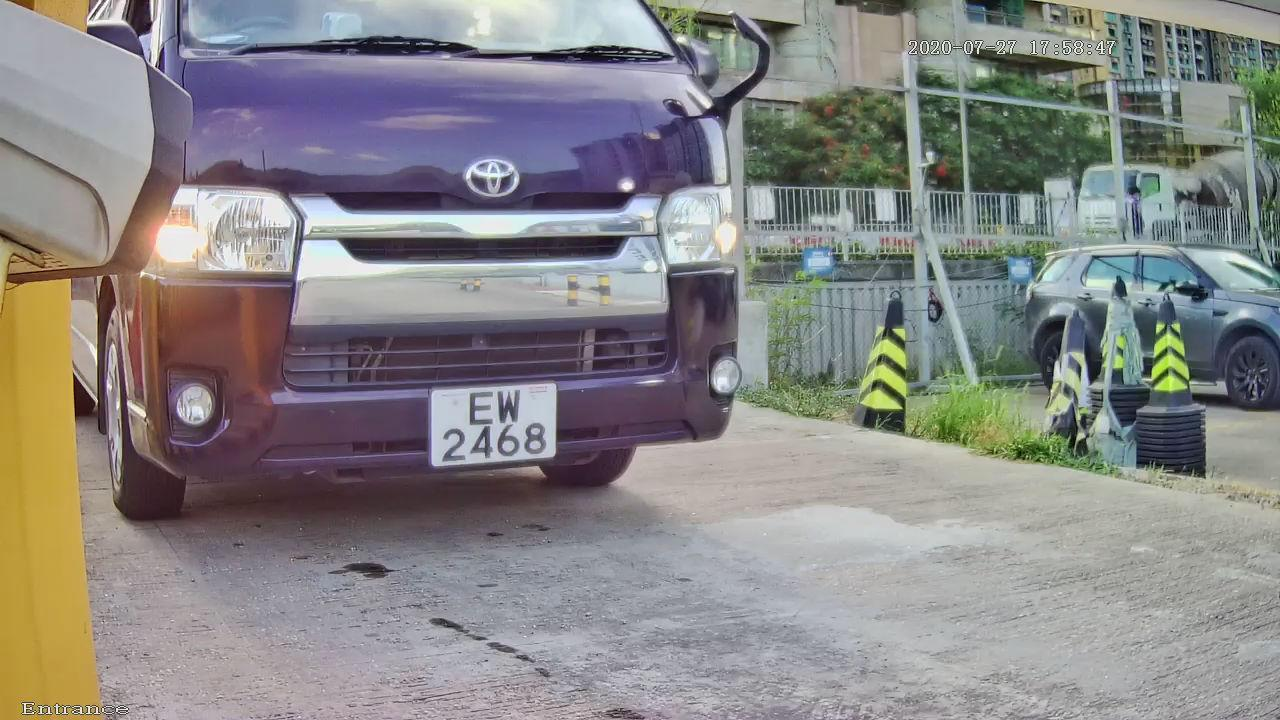privatecar: (69, 10, 795, 534)
